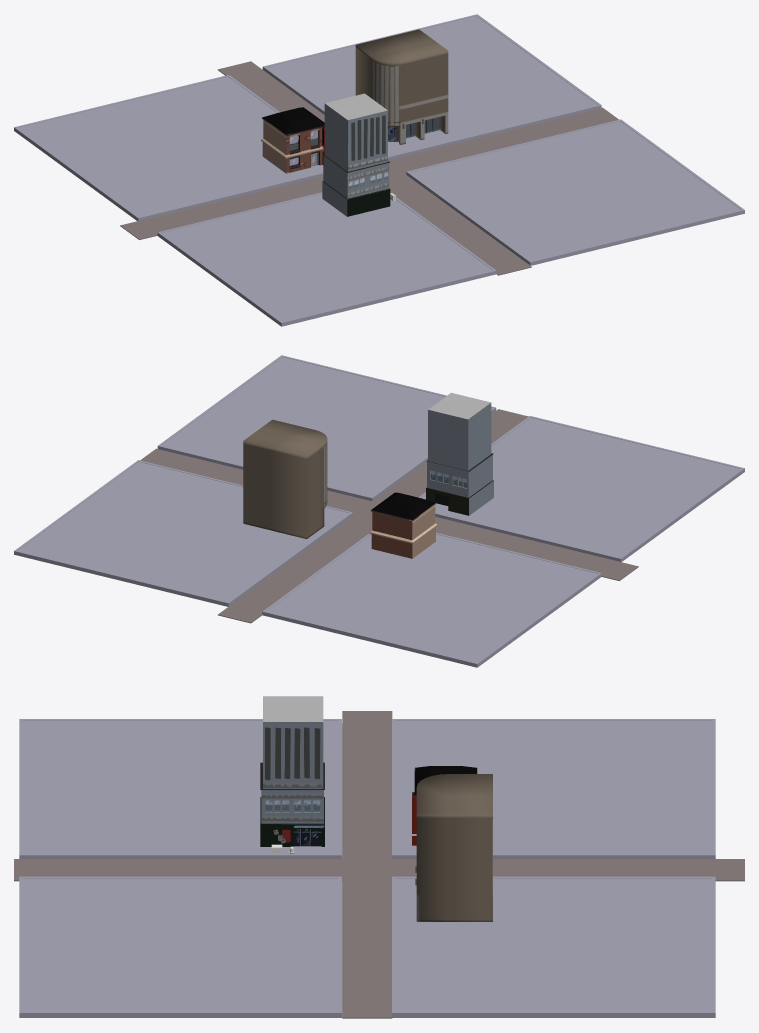
File: testscene02.glb
The picture shows the model from 3 angles, top to bottom: view 1: azimuth 30°, elevation 25°; view 2: azimuth 150°, elevation 25°; view 3: azimuth 270°, elevation 25°; orthographic projection. The views are drawn at different scales.
Parts seen in each view (by area): view 1: mainfloor, road, finefoods, shoppers, tims; view 2: mainfloor, road, finefoods, shoppers, tims; view 3: mainfloor, road, finefoods, shoppers, tims.
Part boxes in pixels (x1,y1,x2,y2): mainfloor: [14, 14, 744, 326]; road: [120, 61, 618, 275]; finefoods: [355, 29, 448, 144]; shoppers: [322, 93, 390, 216]; tims: [261, 107, 324, 173]; mainfloor: [14, 355, 744, 667]; road: [140, 409, 638, 623]; finefoods: [243, 419, 327, 539]; shoppers: [426, 392, 493, 515]; tims: [369, 492, 437, 558]; mainfloor: [19, 719, 715, 1017]; road: [14, 711, 744, 1018]; finefoods: [416, 774, 492, 921]; shoppers: [260, 696, 324, 846]; tims: [414, 766, 477, 795].
Size of the model in its own units: 89.4 by 17.51 by 90.1.
Materials: 8 (3 with a texture image).
